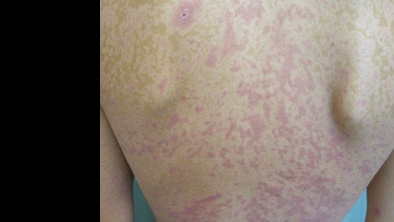SJS-TEN: (99, 0, 393, 221)
